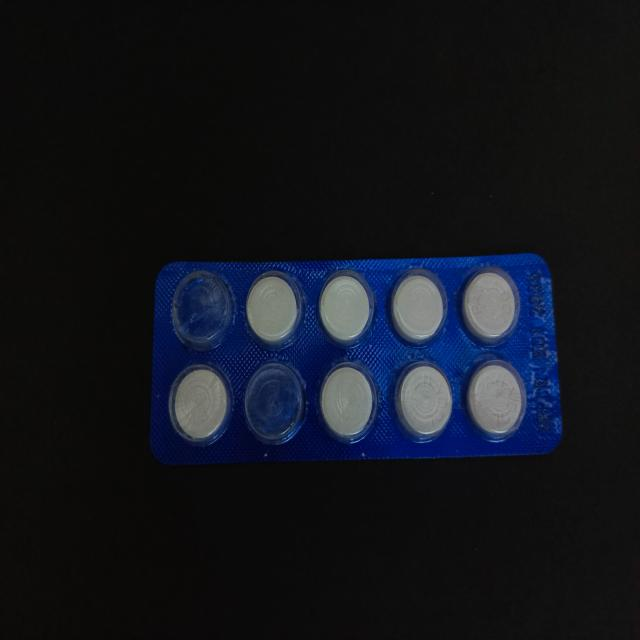defect: (170, 270, 232, 352), (244, 361, 306, 442)
